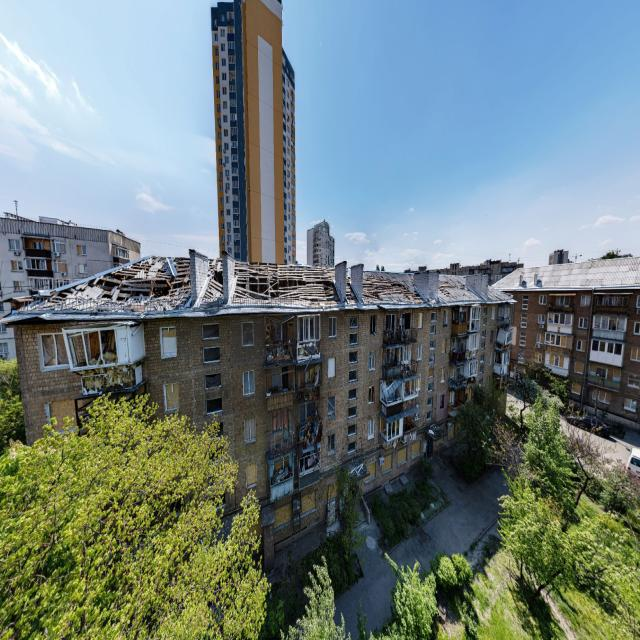broken_window: (46, 403, 81, 441), (39, 330, 72, 369), (160, 327, 174, 362), (165, 384, 180, 416), (590, 385, 610, 407), (243, 522, 264, 538), (299, 496, 317, 514), (273, 507, 292, 524), (207, 395, 222, 416), (204, 345, 220, 363), (242, 326, 255, 347), (326, 481, 339, 501), (246, 466, 258, 487), (203, 324, 219, 339), (243, 371, 255, 390), (327, 397, 336, 418), (205, 376, 221, 387), (247, 421, 256, 440), (381, 459, 394, 471), (327, 359, 336, 376), (328, 318, 336, 337), (328, 434, 336, 453), (367, 416, 375, 434), (366, 462, 376, 476), (449, 424, 456, 442), (398, 454, 409, 465), (368, 387, 374, 404), (348, 316, 358, 326), (348, 389, 358, 399), (436, 429, 443, 442), (371, 314, 376, 332), (347, 425, 356, 435), (347, 442, 356, 452), (349, 352, 358, 362), (349, 371, 358, 381), (348, 408, 357, 418), (412, 445, 421, 455), (370, 354, 376, 369), (535, 352, 542, 364), (575, 363, 583, 372), (574, 380, 580, 392), (350, 332, 358, 340), (428, 368, 434, 376), (440, 394, 444, 406), (441, 369, 445, 379), (442, 340, 446, 350), (520, 355, 525, 362), (582, 340, 585, 350), (430, 356, 434, 362)
building: (15, 286, 639, 616)
damage: (264, 315, 323, 504), (379, 311, 421, 453), (64, 322, 148, 391), (450, 361, 471, 393)
damaged_roof: (4, 251, 513, 327)
other: (0, 0, 640, 455), (256, 389, 640, 640), (0, 395, 269, 640)
roof: (4, 251, 513, 328), (492, 256, 640, 290)
